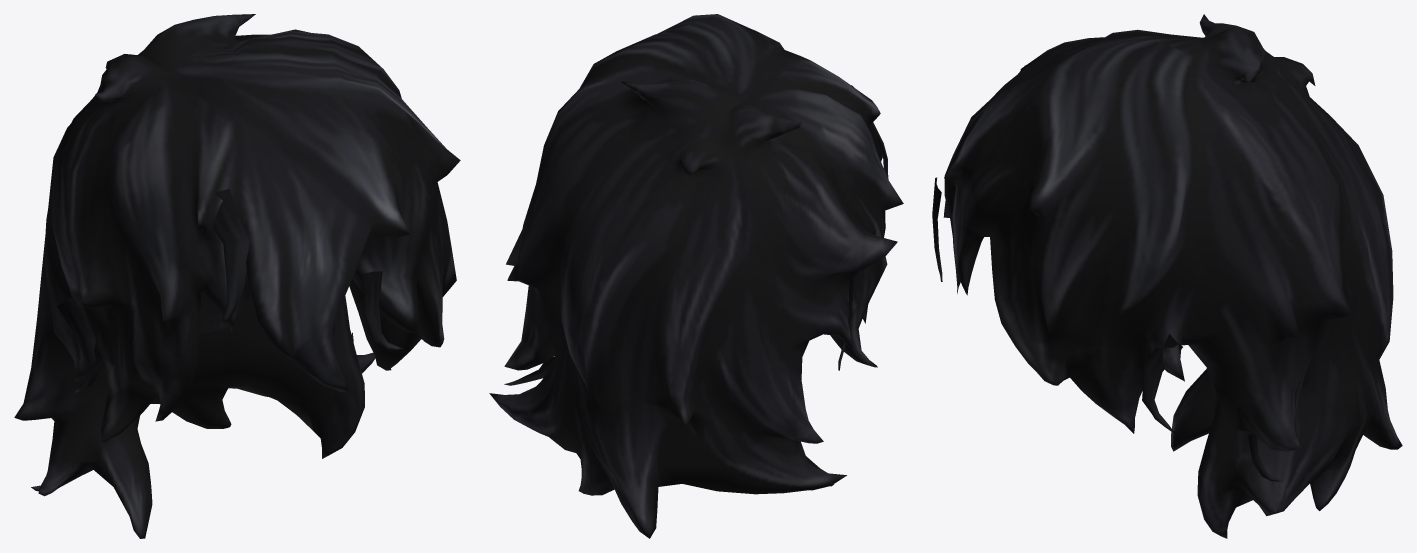
Rendered from Squashed Hair For Helmet.FBX.
3 views of the same model, side by side, from view 1: azimuth 30°, elevation 25°; view 2: azimuth 150°, elevation 25°; view 3: azimuth 270°, elevation 25° (orthographic). The views are drawn at different scales.
Parts seen in each view (by area): view 1: Hair Helmet; view 2: Hair Helmet; view 3: Hair Helmet.
Boxes of the visible parts, left/top/right/bottom form: Hair Helmet: left=14, top=14, right=460, bottom=538; Hair Helmet: left=489, top=14, right=903, bottom=538; Hair Helmet: left=932, top=14, right=1402, bottom=538.
Bounding box in the file's own units: 25.12 × 28.04 × 29.87.
